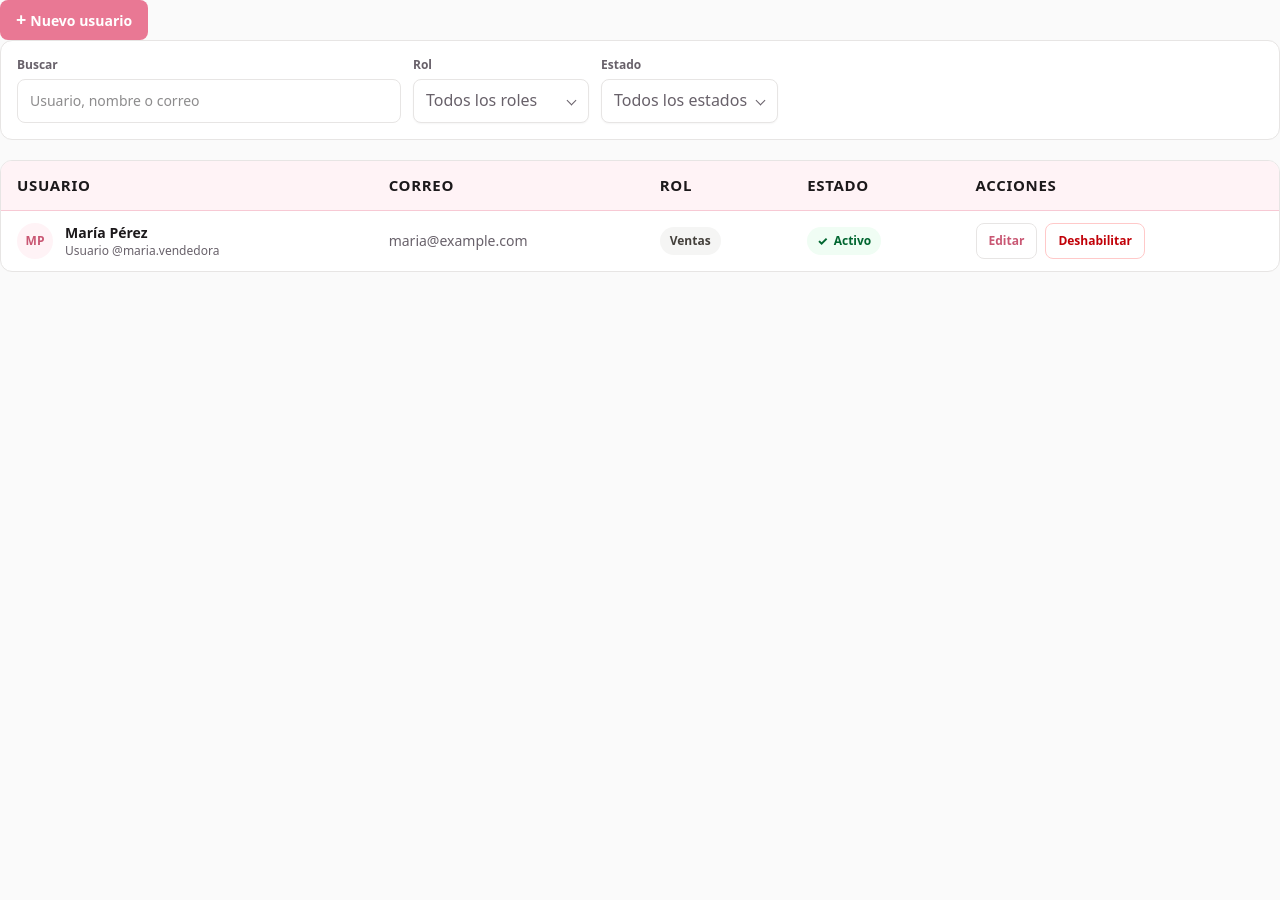
UsersPage › refreshes the active filtered list after changing a user status
The width and height of the screenshot is (1280, 900).
Click the button with aria-label "Seleccionar estado". click: (690, 101)
box: top-left (601, 79), bottom-right (778, 123)
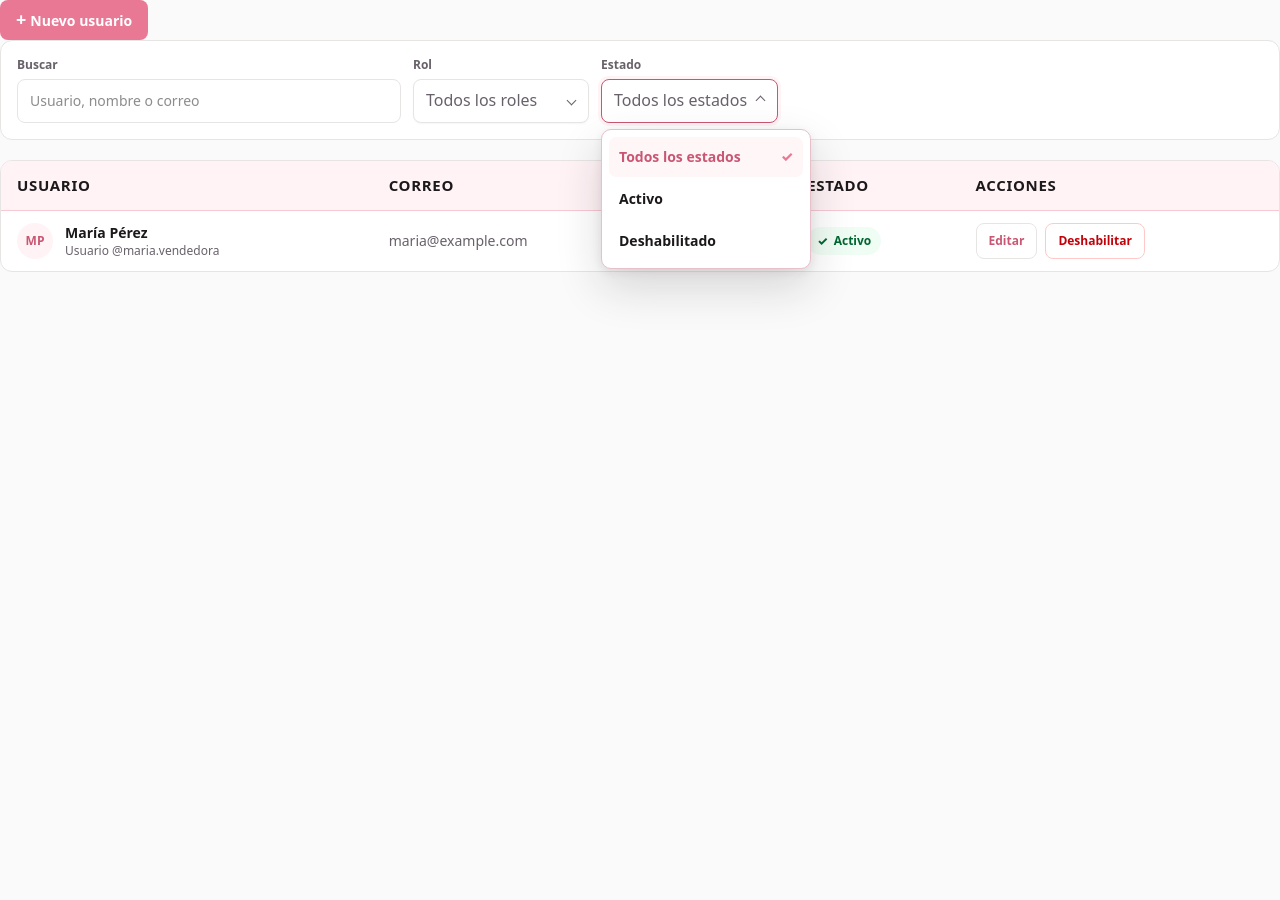
Click the option "Activo". click: (706, 199)
box: top-left (609, 179), bottom-right (803, 219)
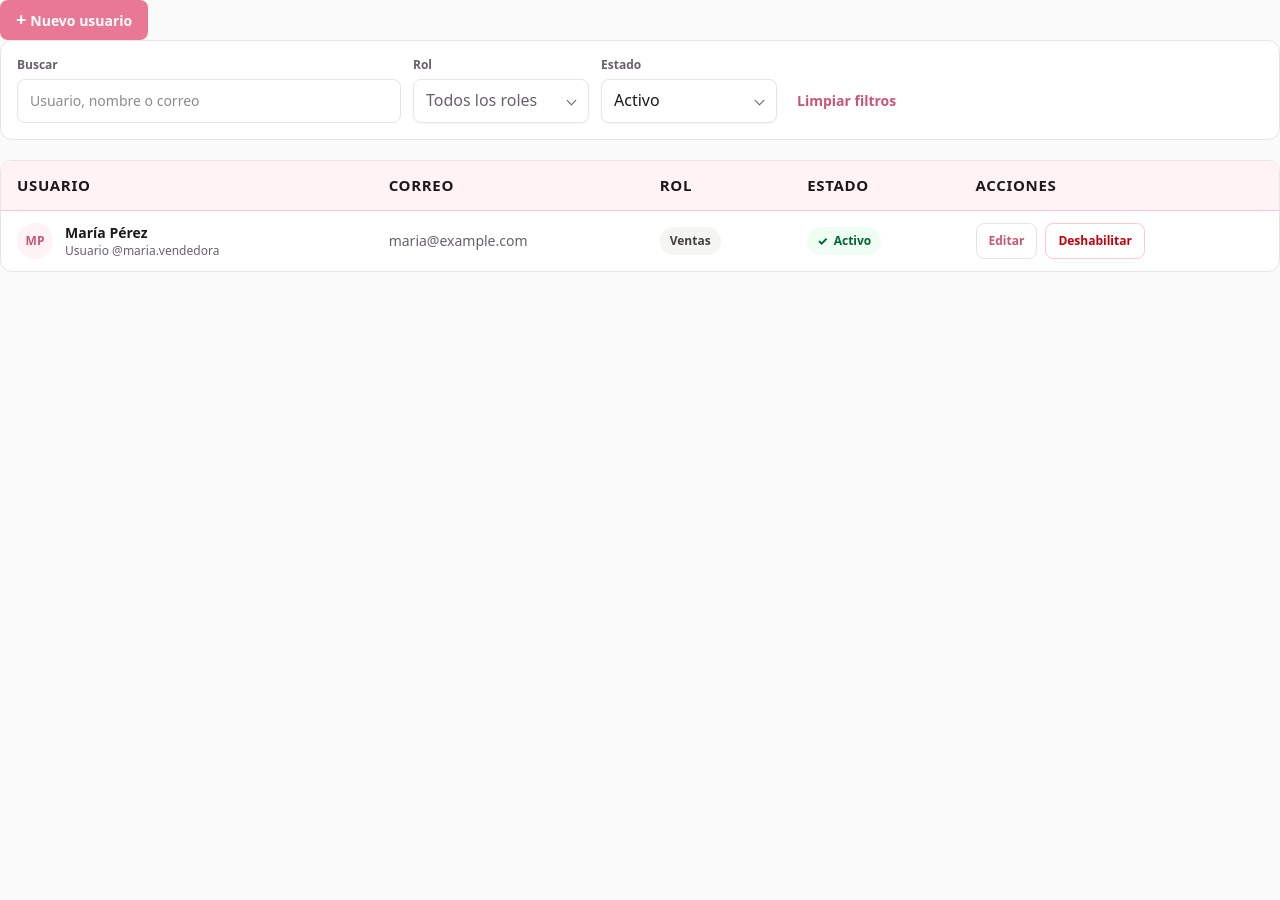
Click the button with aria-label "Deshabilitar maria.vendedora". click: (1095, 241)
box: top-left (1045, 223), bottom-right (1145, 259)
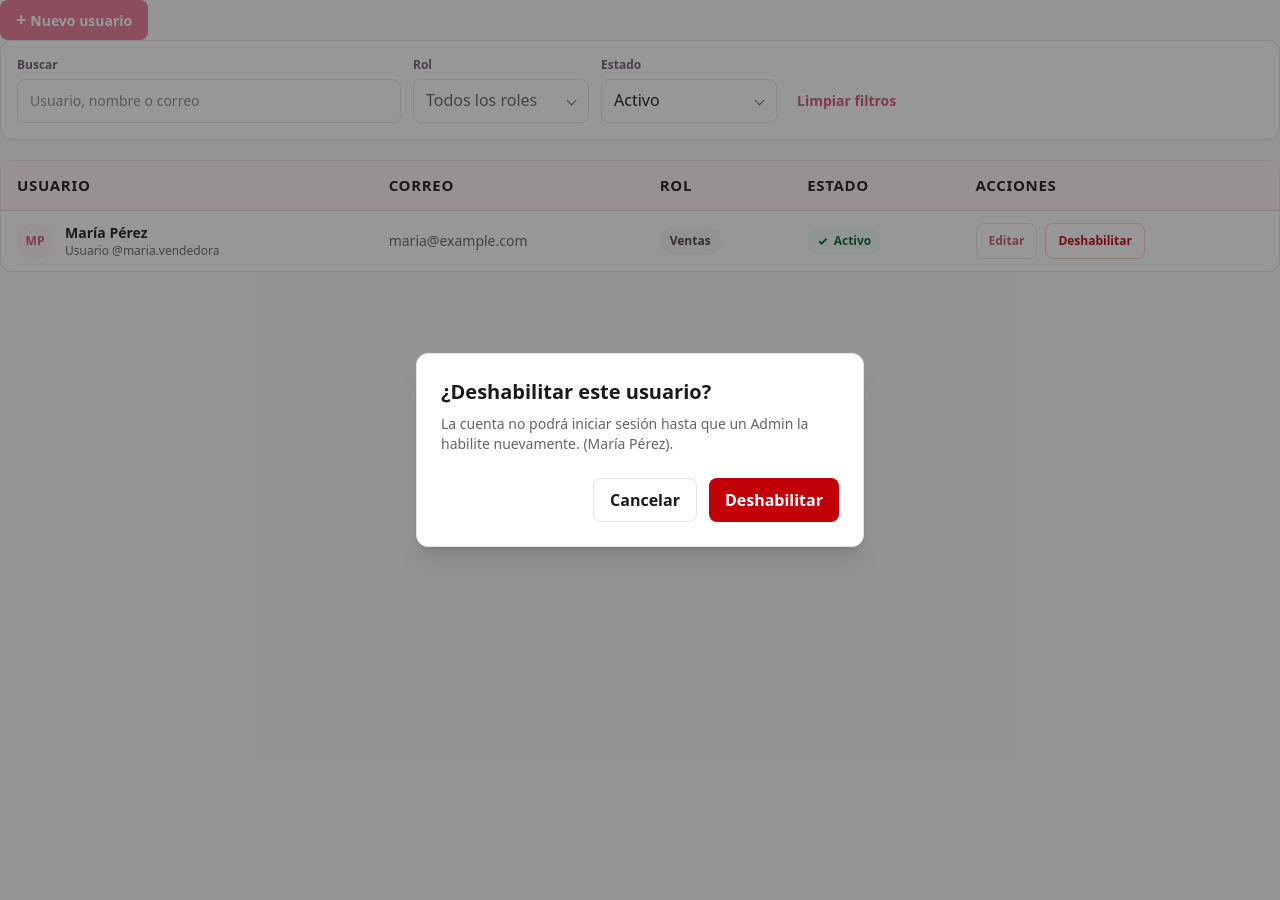
Click the button "Deshabilitar". click: (774, 500)
box: top-left (709, 478), bottom-right (839, 522)
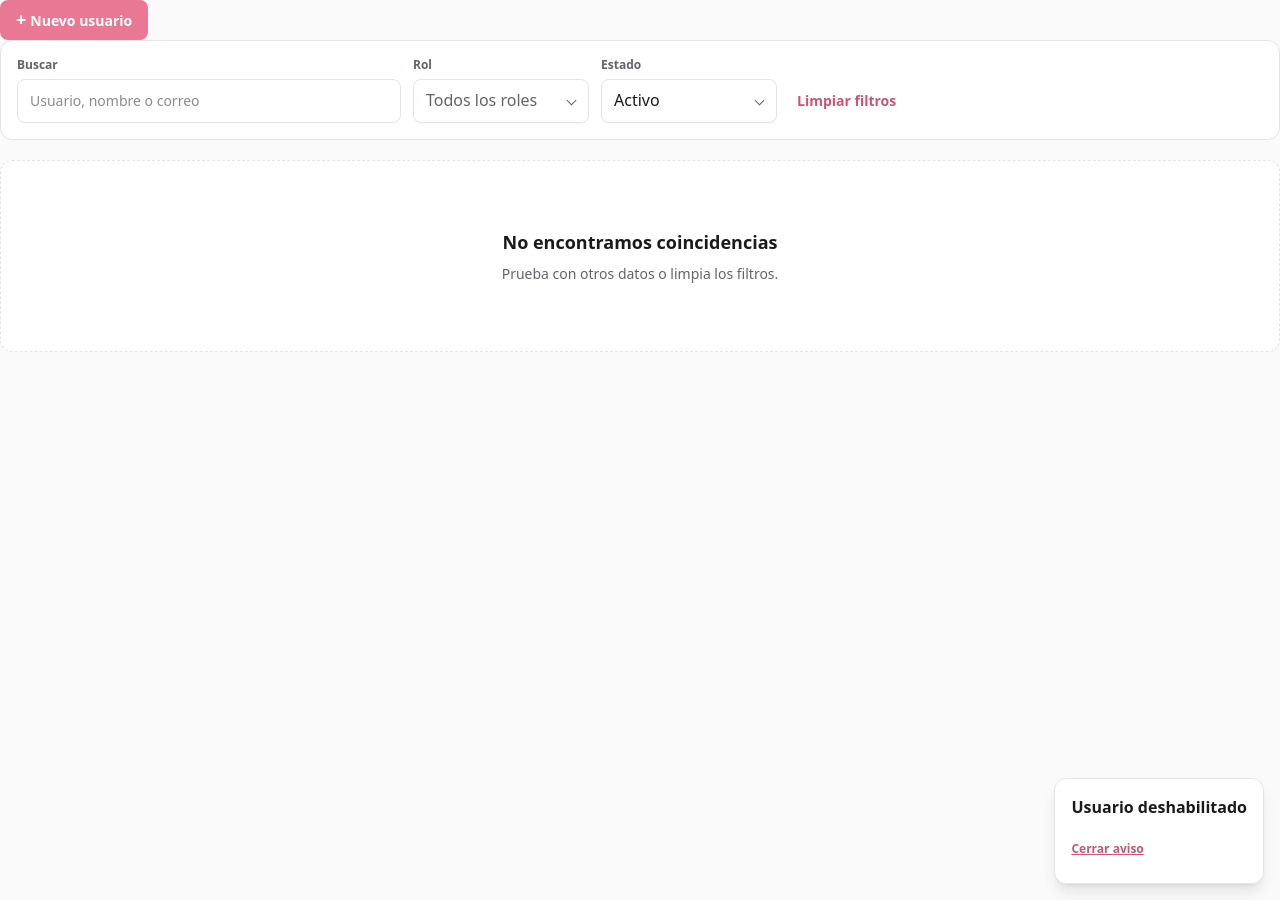
Expected: the heading "No encontramos coincidencias" is shown, top-left (502, 228), bottom-right (778, 256)
